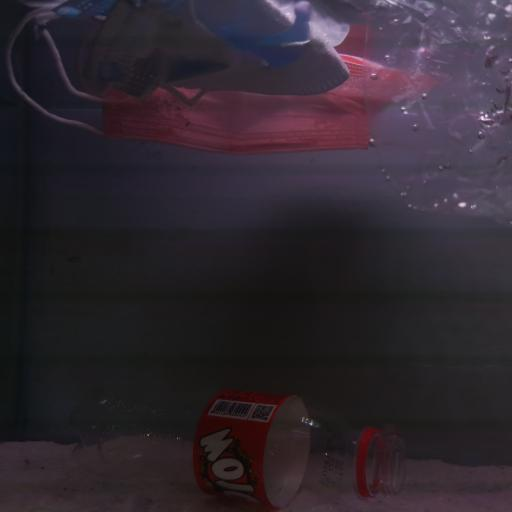mask: (4, 38, 436, 153), (7, 0, 348, 100)
plastic_bag: (351, 0, 512, 215)
plastic_bottle: (69, 382, 411, 504)
